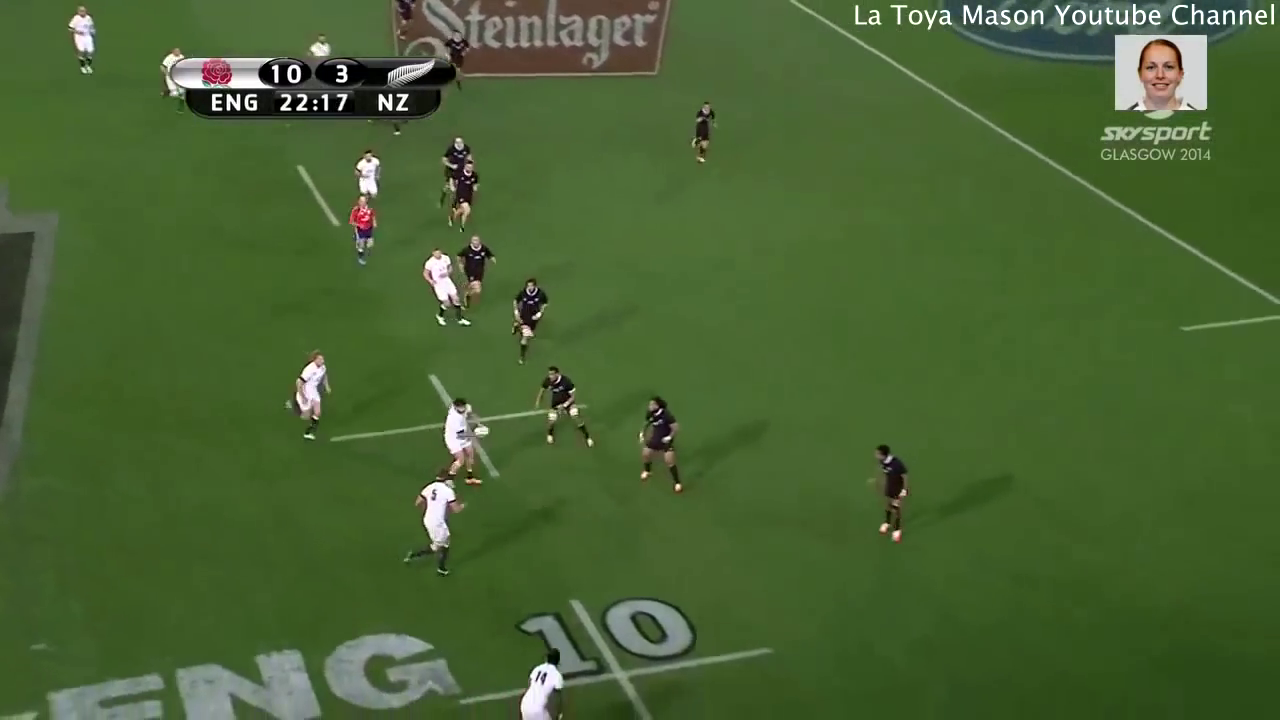10_metre: (460, 593, 778, 720), (332, 372, 585, 488)
ball: (467, 419, 494, 444)
player: (399, 467, 460, 586), (861, 440, 915, 557), (533, 360, 594, 455), (631, 393, 685, 496), (281, 349, 333, 448), (417, 248, 473, 334), (440, 396, 490, 492), (511, 648, 566, 720), (506, 276, 549, 365), (61, 1, 103, 79), (344, 194, 385, 270), (453, 234, 494, 308), (441, 160, 484, 230), (685, 101, 721, 171), (442, 30, 470, 93), (439, 132, 475, 175), (354, 149, 381, 202), (302, 35, 339, 57)
